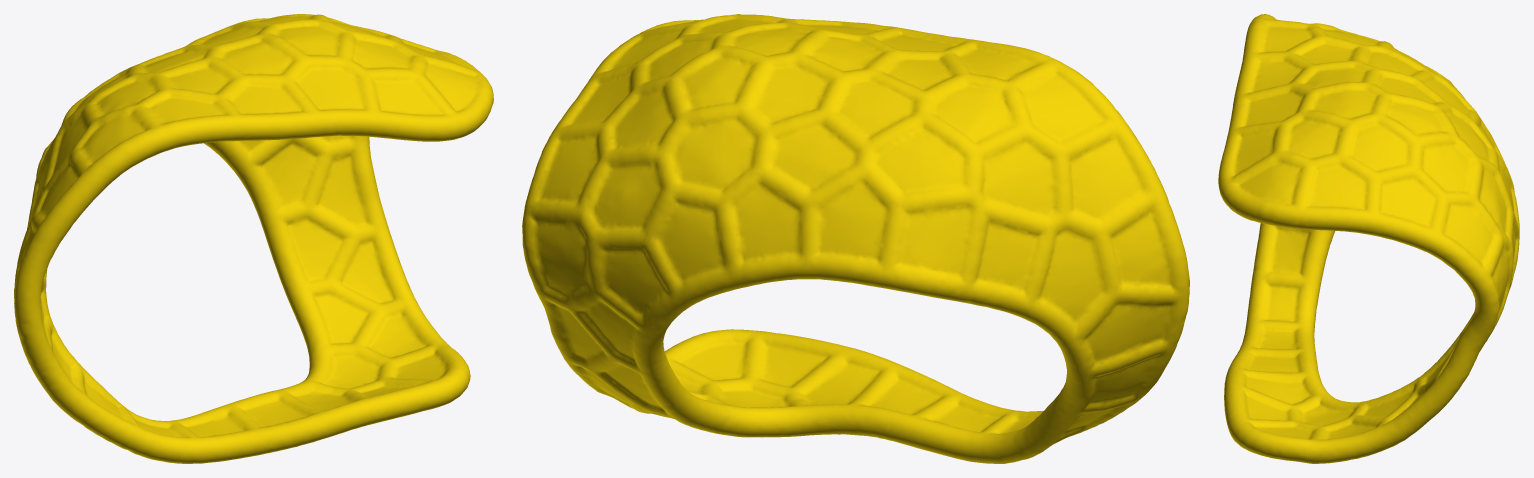
Rendered from ollie-v3-lattice-solid.glb.
3 views of the same model, side by side, from view 1: azimuth 30°, elevation 25°; view 2: azimuth 150°, elevation 25°; view 3: azimuth 270°, elevation 25° (orthographic). The views are drawn at different scales.
Parts seen in each view (by area): view 1: SolidSocket.obj; view 2: SolidSocket.obj; view 3: SolidSocket.obj.
Part boxes in pixels (bbox=[...]): SolidSocket.obj: bbox=[14, 14, 493, 463]; SolidSocket.obj: bbox=[522, 14, 1189, 463]; SolidSocket.obj: bbox=[1218, 14, 1519, 463].
Bounding box in the file's own units: 208 × 150 × 125.
